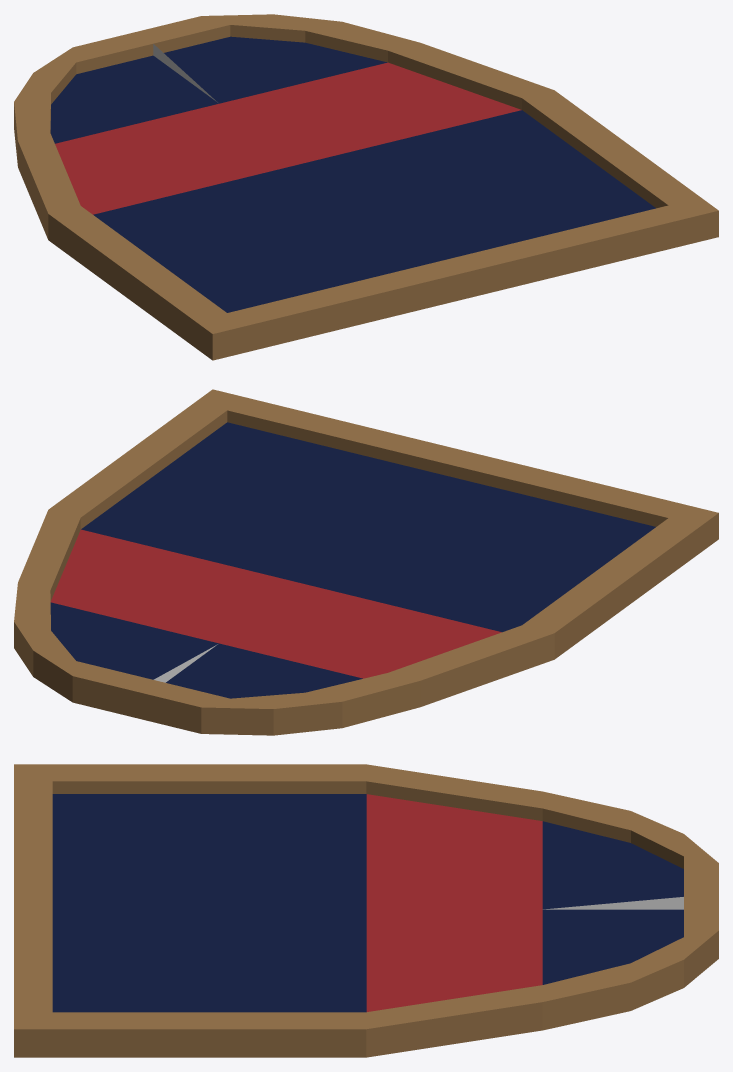
File: ClockworkPixie_Test_Shield.fbx
The picture shows the model from 3 angles, top to bottom: view 1: azimuth 30°, elevation 25°; view 2: azimuth 150°, elevation 25°; view 3: azimuth 270°, elevation 25°; orthographic projection. The views are drawn at different scales.
Visible parts, largest first — view 1: Cube; view 2: Cube; view 3: Cube.
Part boxes in pixels (box(x1,y1,x2,y2)): Cube: box(14, 14, 718, 360); Cube: box(14, 389, 718, 735); Cube: box(14, 764, 718, 1057).
Bounding box in the file's own units: 800 × 40 × 900.
